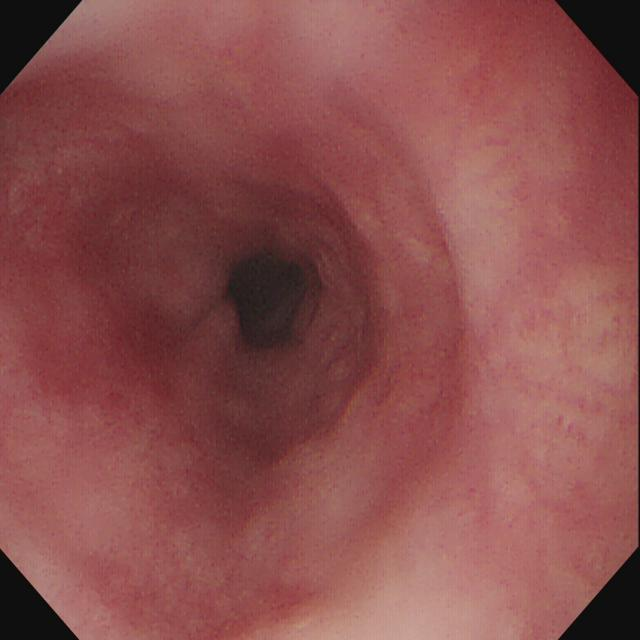A: (82, 560, 317, 640), (172, 458, 264, 540)
E: (231, 256, 309, 349)
